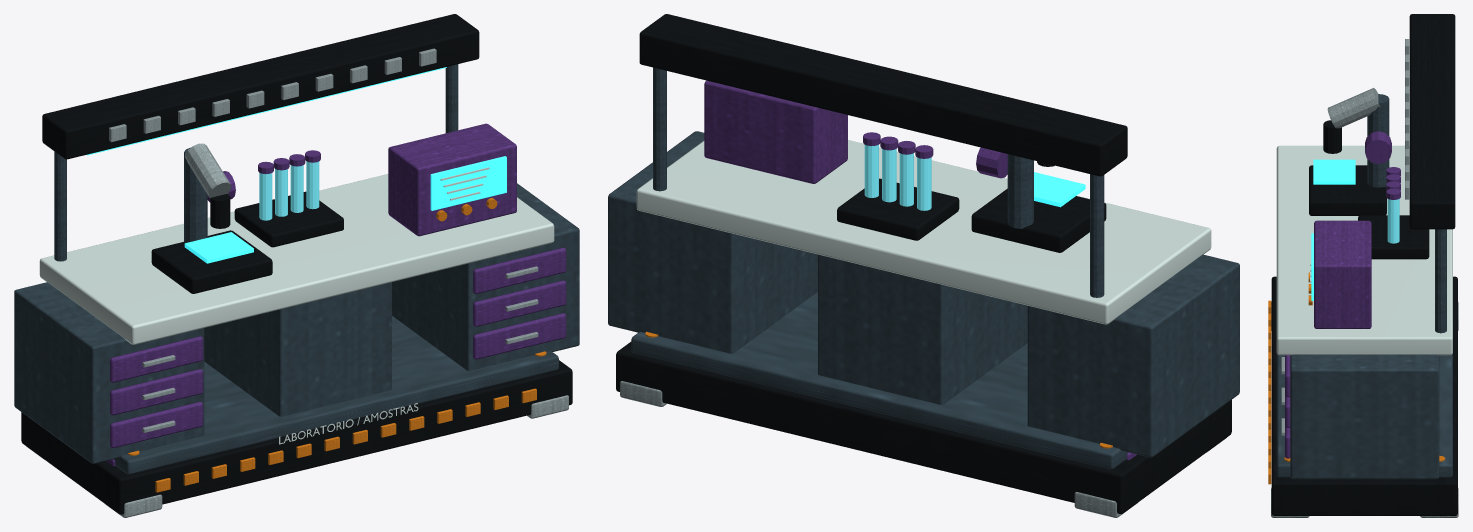
Rendered from laboratorio-amostras.glb.
3 renders of one model, left to right at view 1: azimuth 30°, elevation 25°; view 2: azimuth 150°, elevation 25°; view 3: azimuth 270°, elevation 25°, orthographic. The views are drawn at different scales.
Parts seen in each view (by area): view 1: Deck aparafusado.001, Chassi reforçado.001, LABORATORIO / AMOSTRAS.001, Painel de inspeção lateral.002, Sapata de nivelamento.004, Lâmina iluminada.001, Parafuso de ancoragem.004, Frasco de reagente.004; view 2: Deck aparafusado.001, Chassi reforçado.001, LABORATORIO / AMOSTRAS.001, Painel de inspeção lateral.002, Frasco de reagente.004, Sapata de nivelamento.004, Lâmina iluminada.001; view 3: Chassi reforçado.001, Deck aparafusado.001, LABORATORIO / AMOSTRAS.001, Painel de inspeção lateral.002, Sapata de nivelamento.004, Lâmina iluminada.001, Parafuso de ancoragem.004, Frasco de reagente.004.
Boxes of the visible parts, x1,y1,x2,y2 form: Deck aparafusado.001: [14, 64, 579, 474]; Chassi reforçado.001: [21, 14, 572, 514]; LABORATORIO / AMOSTRAS.001: [39, 167, 554, 444]; Painel de inspeção lateral.002: [106, 123, 566, 466]; Sapata de nivelamento.004: [26, 48, 568, 517]; Lâmina iluminada.001: [86, 67, 506, 263]; Parafuso de ancoragem.004: [127, 198, 546, 492]; Frasco de reagente.004: [259, 161, 319, 220]; Deck aparafusado.001: [608, 67, 1239, 469]; Chassi reforçado.001: [616, 14, 1231, 513]; LABORATORIO / AMOSTRAS.001: [636, 140, 1211, 324]; Painel de inspeção lateral.002: [704, 80, 1136, 459]; Frasco de reagente.004: [864, 144, 931, 210]; Sapata de nivelamento.004: [620, 381, 1225, 517]; Lâmina iluminada.001: [1034, 172, 1085, 207]; Chassi reforçado.001: [1271, 14, 1457, 515]; Deck aparafusado.001: [1276, 94, 1452, 479]; LABORATORIO / AMOSTRAS.001: [1276, 145, 1452, 355]; Painel de inspeção lateral.002: [1285, 131, 1400, 458]; Sapata de nivelamento.004: [1271, 39, 1458, 517]; Lâmina iluminada.001: [1311, 159, 1355, 300]; Parafuso de ancoragem.004: [1268, 272, 1445, 484]; Frasco de reagente.004: [1387, 199, 1399, 243].
Size of the model in its own units: 3.12 by 2.01 by 1.13.
8 materials, 5 textured.
